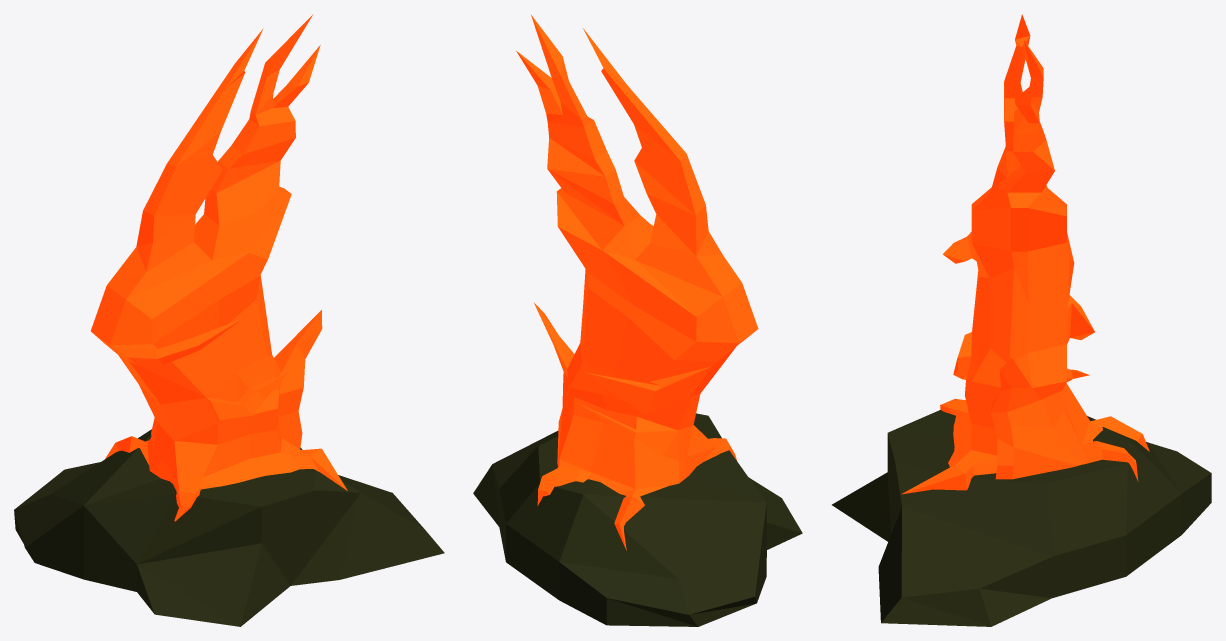
The model's file is SM_Relief_Element_03.glb.
The picture shows the model from 3 angles, left to right: view 1: azimuth 30°, elevation 25°; view 2: azimuth 150°, elevation 25°; view 3: azimuth 270°, elevation 25°; orthographic projection. The views are drawn at different scales.
Parts seen in each view (by area): view 1: SM_Relief_Element_03; view 2: SM_Relief_Element_03; view 3: SM_Relief_Element_03.
Part boxes in pixels (<box>): SM_Relief_Element_03: <box>14,14,444,626</box>; SM_Relief_Element_03: <box>473,15,802,626</box>; SM_Relief_Element_03: <box>832,14,1211,626</box>.
Bounding box in the file's own units: 0.4458 × 0.6589 × 0.4122.
Materials: 2 (1 with a texture image).
